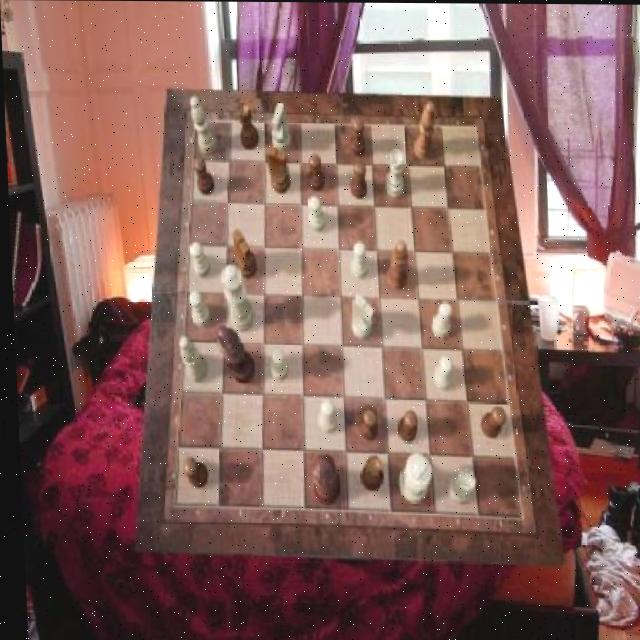bishop: (409, 101, 434, 159), (383, 239, 407, 288)
black-bishop: (213, 324, 252, 383)
black-king: (229, 229, 254, 278), (264, 146, 288, 194)
black-knight: (476, 405, 503, 438), (191, 156, 213, 194), (180, 458, 205, 489), (305, 152, 324, 191), (347, 160, 365, 199), (393, 410, 414, 443), (347, 117, 364, 156), (355, 410, 375, 442)
black-pawn: (308, 454, 337, 507)
black-queen: (235, 102, 258, 149), (356, 454, 380, 491)
black-rook: (188, 96, 216, 155), (175, 336, 204, 382)
white-bishop: (393, 453, 429, 504)
white-king: (348, 294, 373, 340), (268, 102, 290, 153)
white-knight: (427, 301, 449, 337), (186, 291, 208, 327), (187, 243, 208, 279), (429, 355, 451, 389), (348, 241, 367, 278), (305, 196, 324, 232), (315, 399, 333, 433), (267, 346, 285, 380)
white-pawn: (217, 264, 252, 330)
white-queen: (443, 468, 473, 505), (382, 149, 404, 198)
